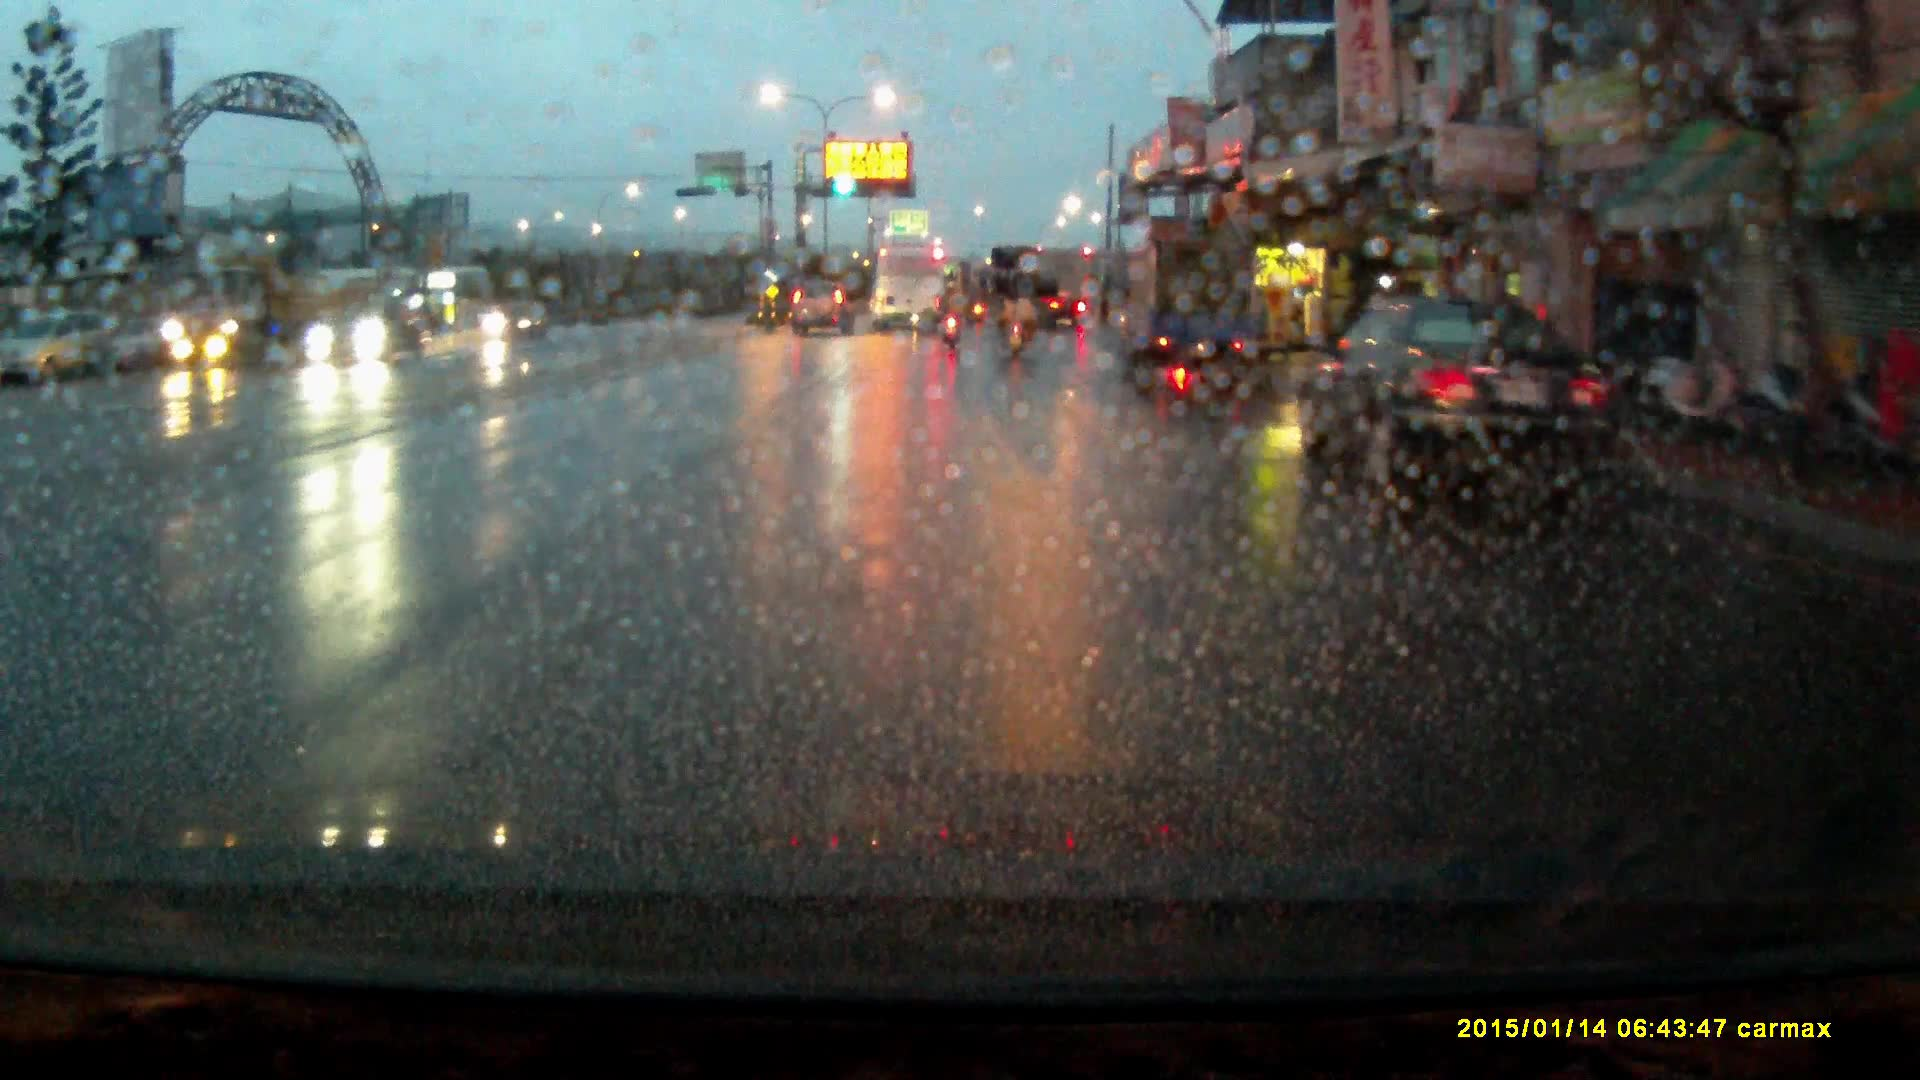rider: (997, 276, 1034, 359), (938, 284, 970, 355)
vehicle: (1315, 297, 1592, 512), (173, 253, 378, 369), (1117, 240, 1259, 378), (1, 310, 120, 390), (304, 307, 432, 370), (991, 248, 1060, 336), (875, 246, 943, 335), (791, 280, 856, 341), (479, 301, 551, 345)
